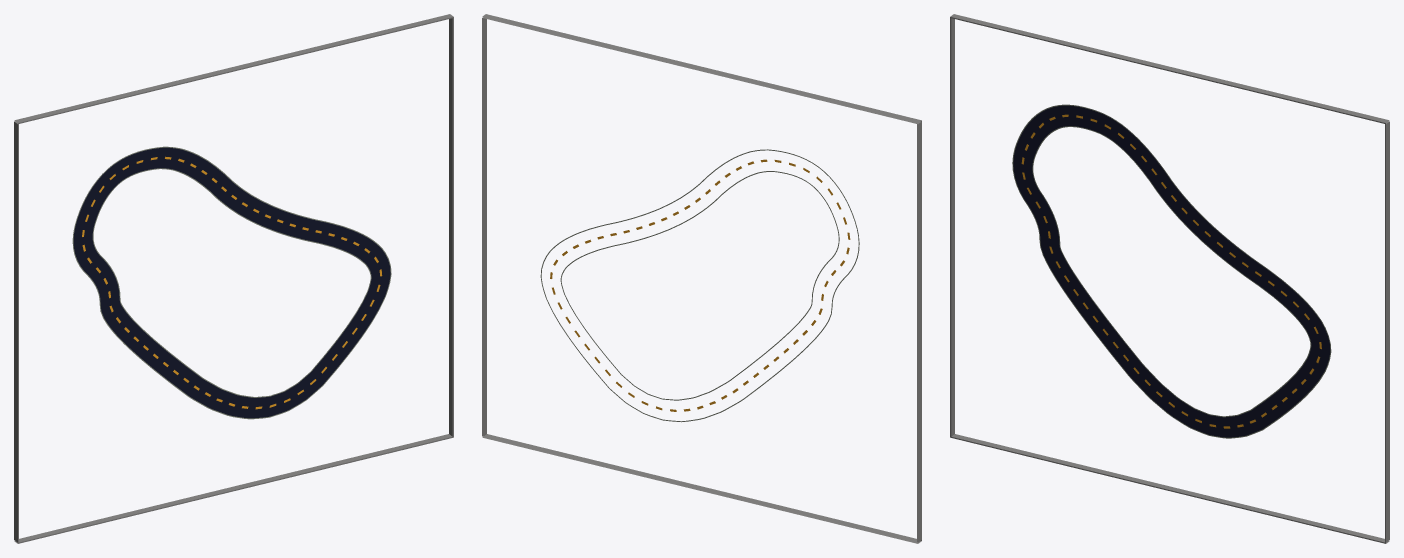
Rendered from track.obj.
The picture shows the model from 3 angles, left to right: view 1: azimuth 30°, elevation 25°; view 2: azimuth 150°, elevation 25°; view 3: azimuth 330°, elevation 25°; orthographic projection.
Size of the model in its own units: 19.84 by 18.3 by 0.3.
